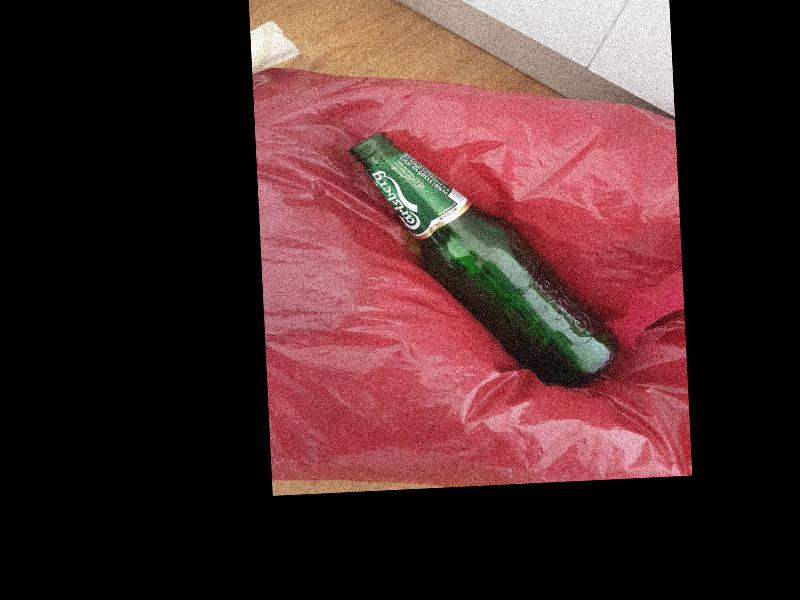Beer: (347, 121, 617, 396)
